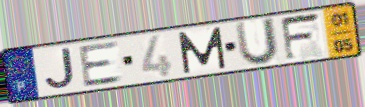4: (139, 33, 176, 79)
E: (76, 39, 125, 89)
F: (278, 10, 324, 63)
J: (43, 46, 78, 91)
M: (176, 25, 229, 76)
U: (232, 15, 281, 67)
